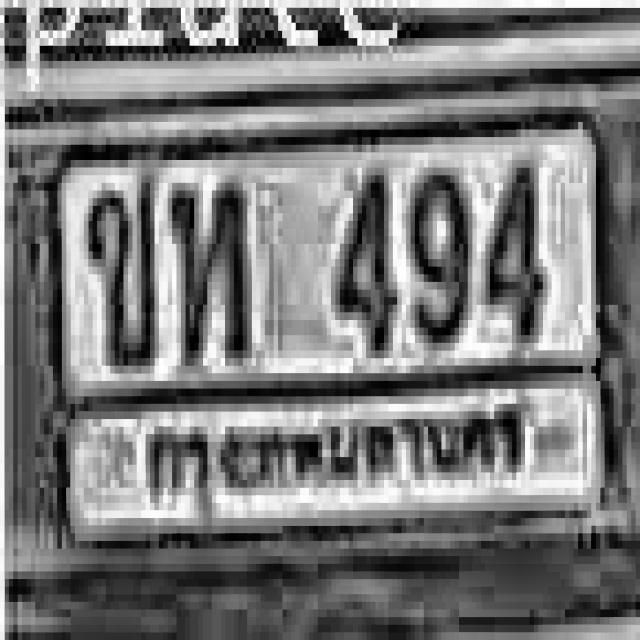license-plate: (31, 100, 608, 589)
